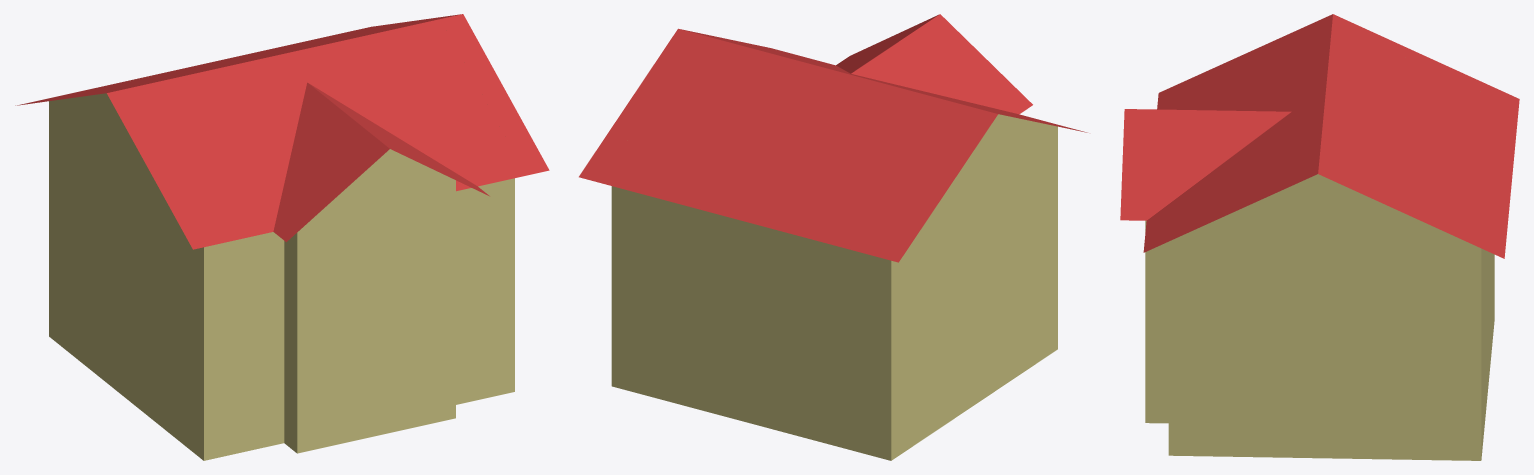
3 views of the same model, side by side, from view 1: azimuth 30°, elevation 25°; view 2: azimuth 150°, elevation 25°; view 3: azimuth 270°, elevation 25° (orthographic). The views are drawn at different scales.
Size of the model in its own units: 12.18 by 12.38 by 10.07.
